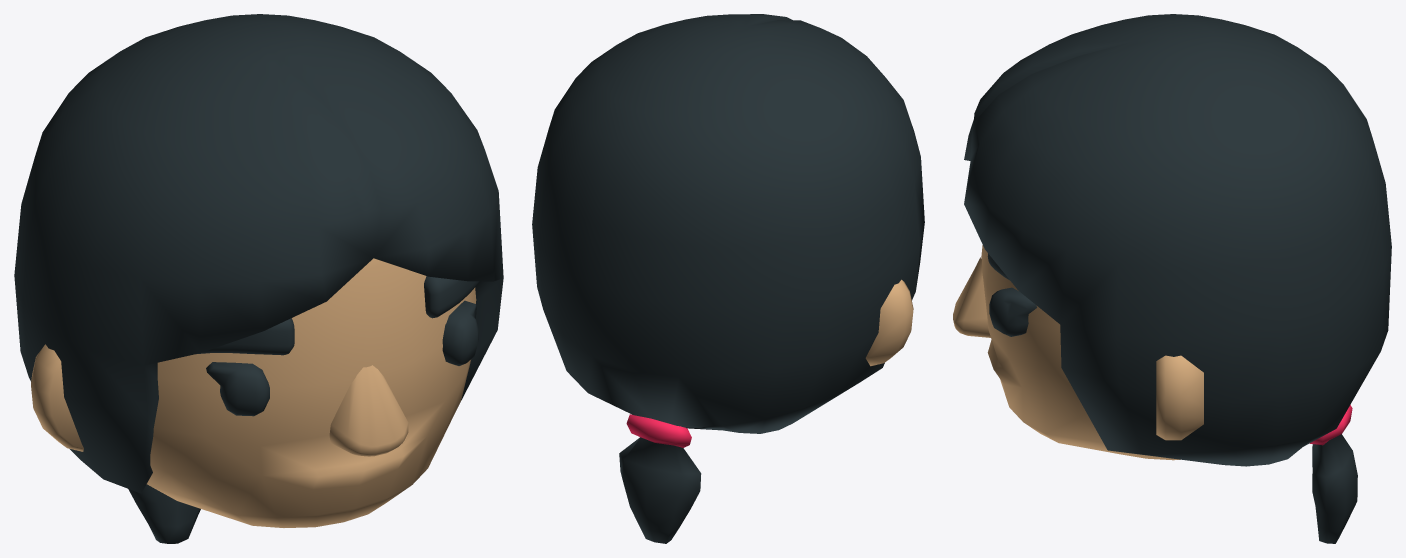
The model's file is mageHeadC.gltf.
The picture shows the model from 3 angles, left to right: view 1: azimuth 30°, elevation 25°; view 2: azimuth 150°, elevation 25°; view 3: azimuth 270°, elevation 25°; orthographic projection. The views are drawn at different scales.
Parts seen in each view (by area): view 1: mageHairC, mageHeadC; view 2: mageHairC, mageHeadC; view 3: mageHairC, mageHeadC.
Boxes of the visible parts, left/top/right/bottom form: mageHairC: left=14, top=14, right=503, bottom=543; mageHeadC: left=31, top=258, right=479, bottom=527; mageHairC: left=532, top=14, right=924, bottom=543; mageHeadC: left=865, top=279, right=913, bottom=366; mageHairC: left=964, top=14, right=1391, bottom=543; mageHeadC: left=953, top=245, right=1203, bottom=460.
Bounding box in the file's own units: 1.18 × 1.42 × 1.12.
